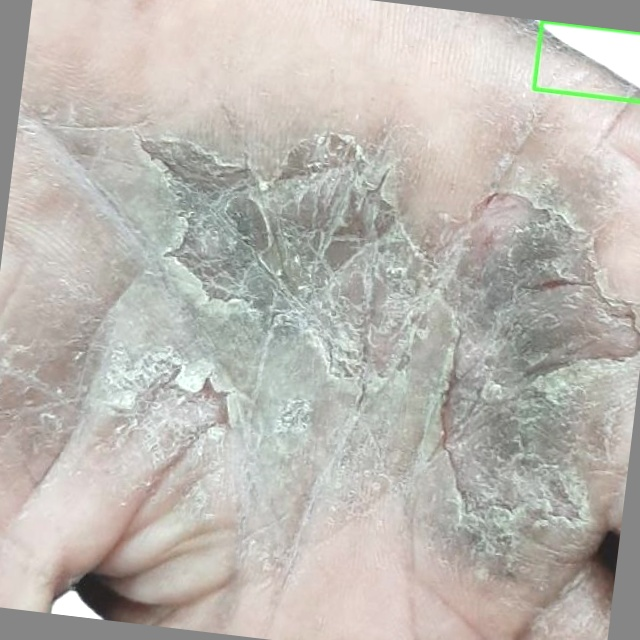Contact Dermatitis: (533, 21, 639, 102)
